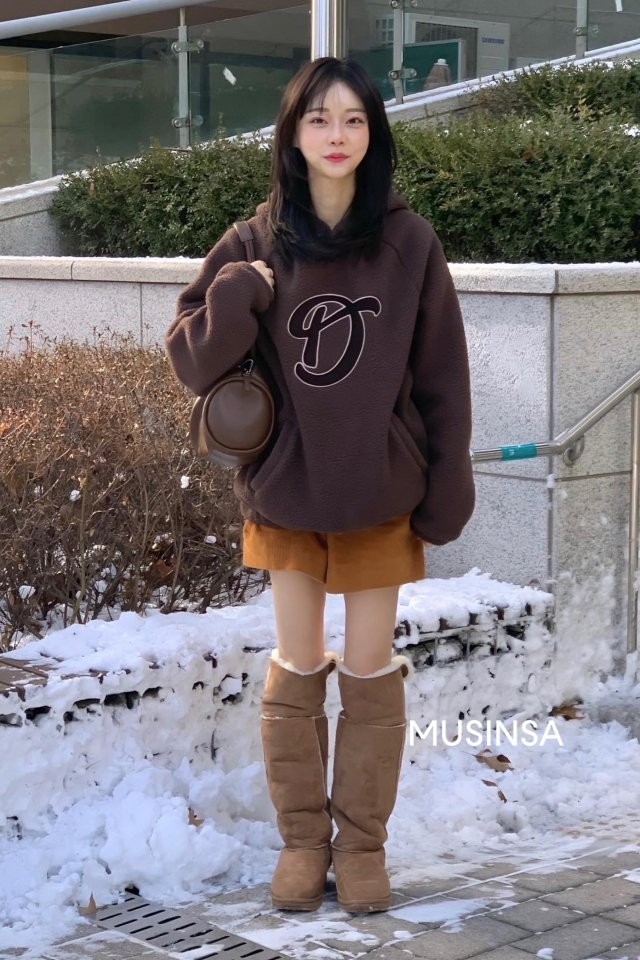Bag: (187, 222, 282, 473)
Boots: (251, 652, 411, 917)
Hoodie: (169, 180, 483, 533)
Skirt: (234, 506, 440, 595)
